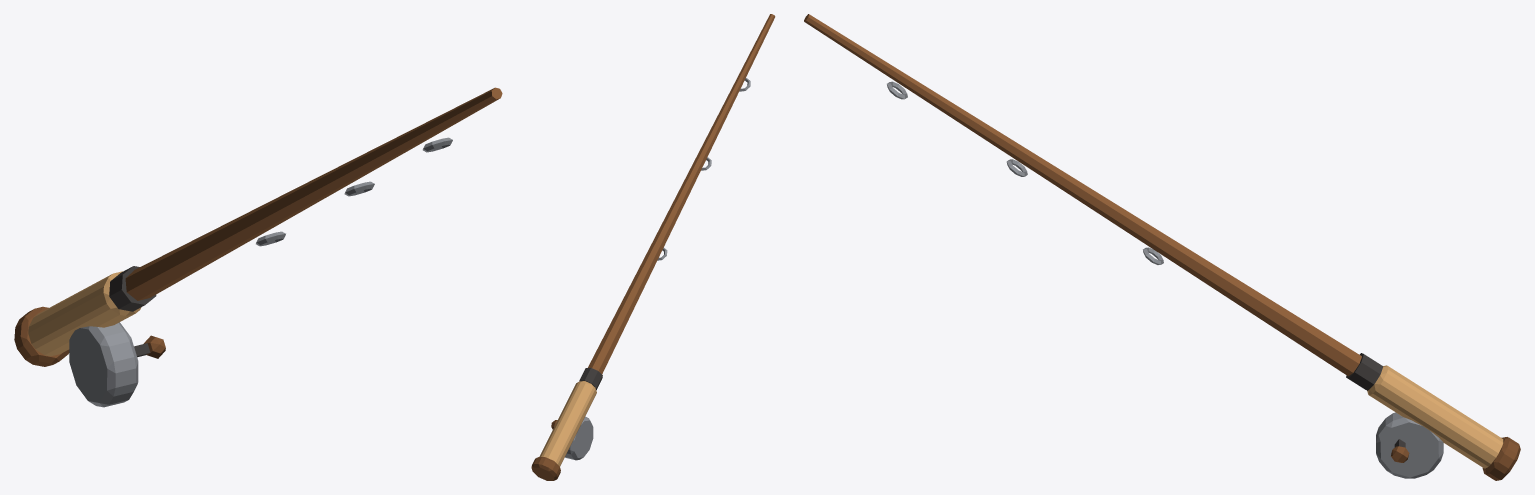
File: fishing_rod.glb
The picture shows the model from 3 angles, left to right: view 1: azimuth 30°, elevation 25°; view 2: azimuth 150°, elevation 25°; view 3: azimuth 270°, elevation 25°; orthographic projection. The views are drawn at different scales.
Visible parts, largest first — view 1: fishing_rod; view 2: fishing_rod; view 3: fishing_rod.
Boxes of the visible parts, bbox=[...] form: fishing_rod: bbox=[14, 87, 502, 407]; fishing_rod: bbox=[531, 14, 775, 480]; fishing_rod: bbox=[804, 14, 1520, 480].
Bounding box in the file's own units: 0.0885 × 0.6503 × 0.9101.
